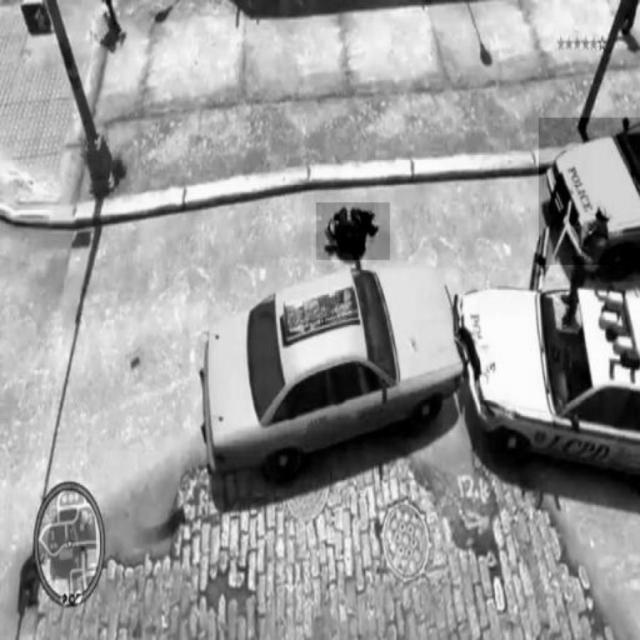accident: (204, 266, 640, 483)
person: (317, 203, 390, 260)
vehicle: (539, 117, 640, 271)
